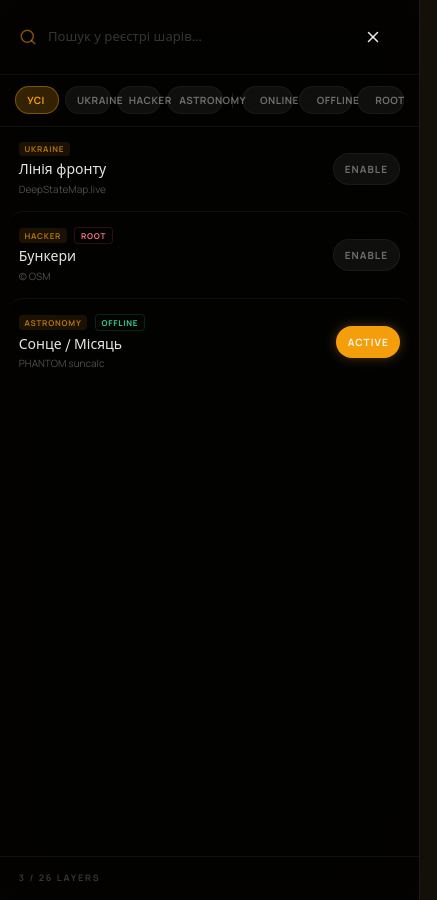
Test: LayerLibraryPanel › filters by category chip
Expected: the list item with test id "layer-row-frontline" is shown, [8,126,412,211]
Click the button with test id "filter-cat-astronomy" at (195, 100), box [167,86,223,114]
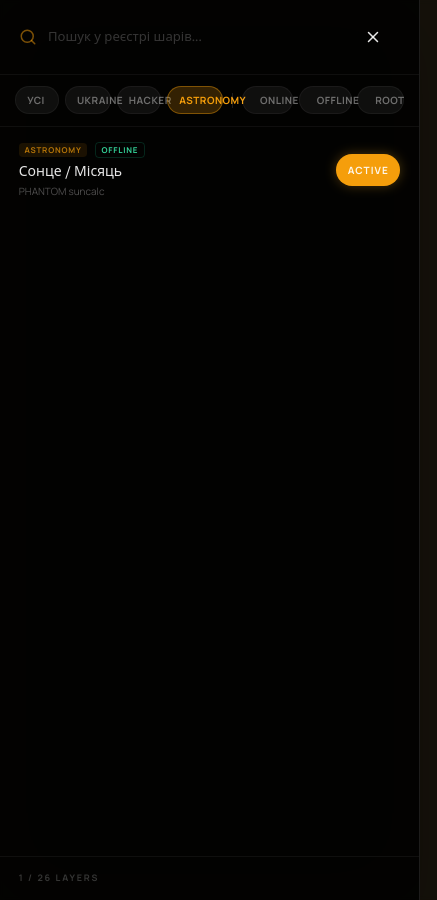
Expected: the list item with test id "layer-row-sun_moon" is shown, [8,126,412,213]
Result: the list item with test id "layer-row-frontline" is gone
Result: the list item with test id "layer-row-bunkers" is gone
